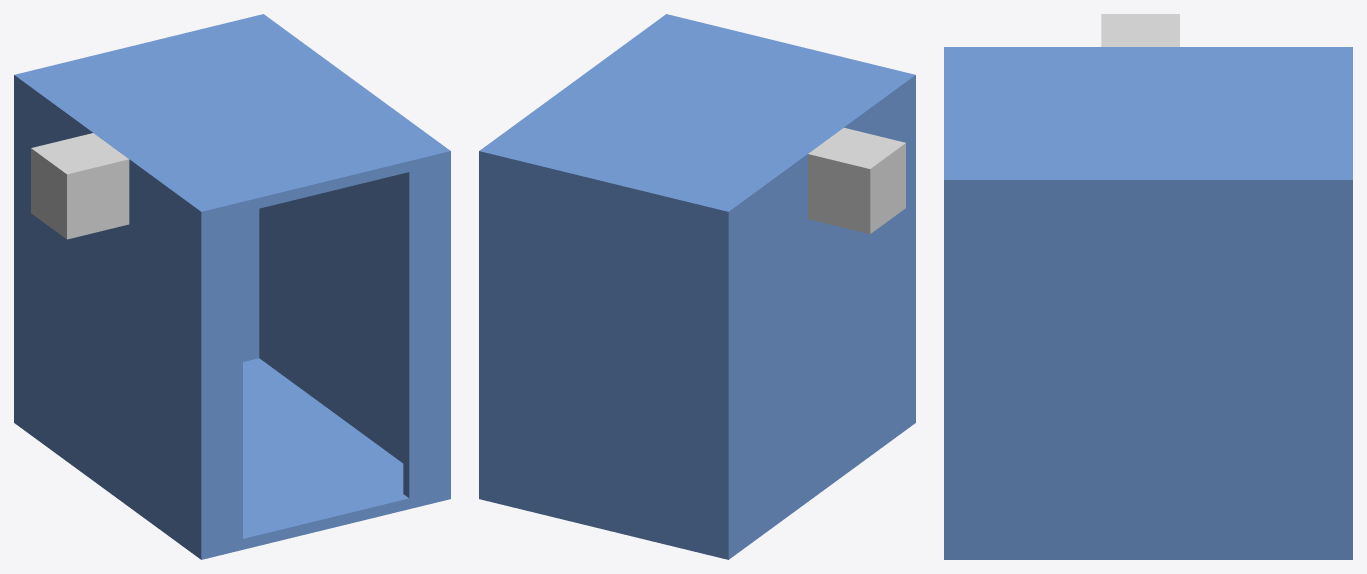
The model's file is lift.gltf.
3 renders of one model, left to right at view 1: azimuth 30°, elevation 25°; view 2: azimuth 150°, elevation 25°; view 3: azimuth 270°, elevation 25°, orthographic. The views are drawn at different scales.
Parts seen in each view (by area): view 1: lift_bot, Cube.001; view 2: lift_bot, Cube.001; view 3: lift_bot, Cube.001.
Part boxes in pixels (x1,y1,x2,y2): lift_bot: (14, 14, 450, 559); Cube.001: (31, 133, 129, 239); lift_bot: (479, 14, 915, 559); Cube.001: (808, 127, 905, 234); lift_bot: (944, 47, 1352, 559); Cube.001: (1101, 14, 1179, 46).
Size of the model in its own units: 3 by 3.2 by 3.12.
